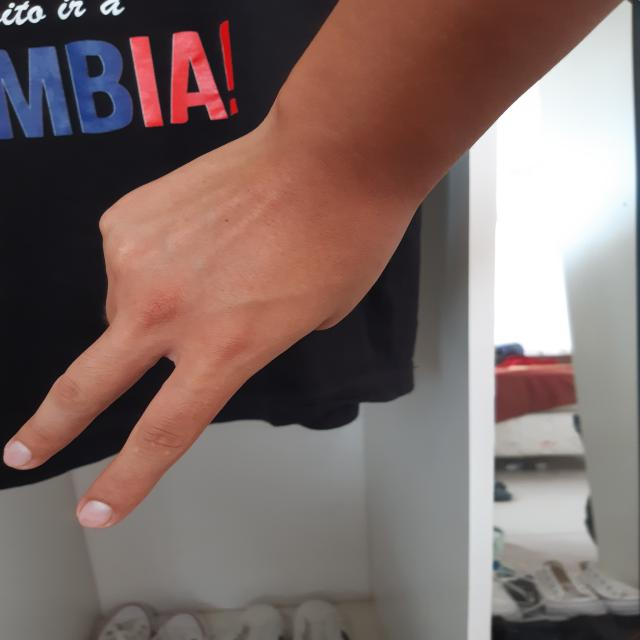EYE: (0, 141, 409, 537)
